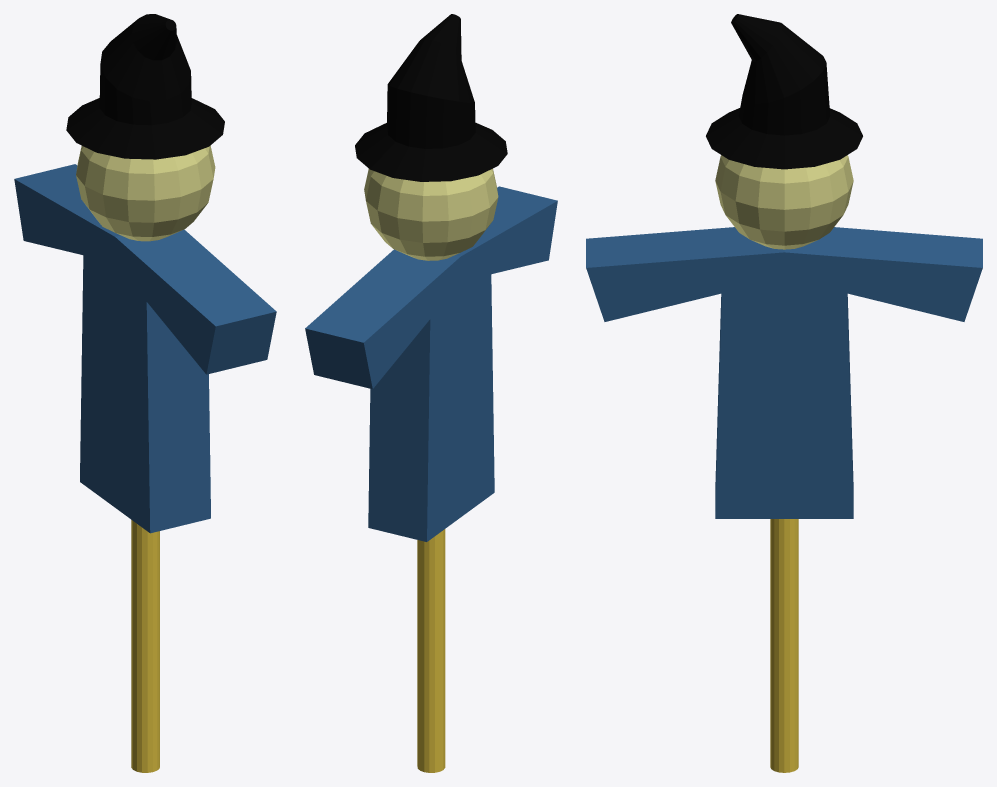
File: Scarecrow.fbx
3 renders of one model, left to right at view 1: azimuth 30°, elevation 25°; view 2: azimuth 150°, elevation 25°; view 3: azimuth 270°, elevation 25°, orthographic. The views are drawn at different scales.
Parts seen in each view (by area): view 1: Plane.093; view 2: Plane.093; view 3: Plane.093.
Boxes of the visible parts, x1=… form: Plane.093: x1=14, y1=14, x2=276, y2=772; Plane.093: x1=305, y1=14, x2=557, y2=772; Plane.093: x1=586, y1=14, x2=982, y2=772.
Size of the model in its own units: 11.38 by 59.95 by 28.66.
